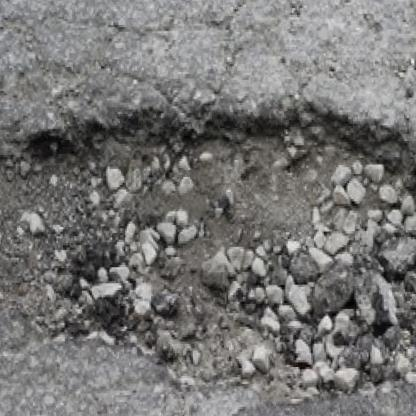pothole: (0, 97, 416, 408)
